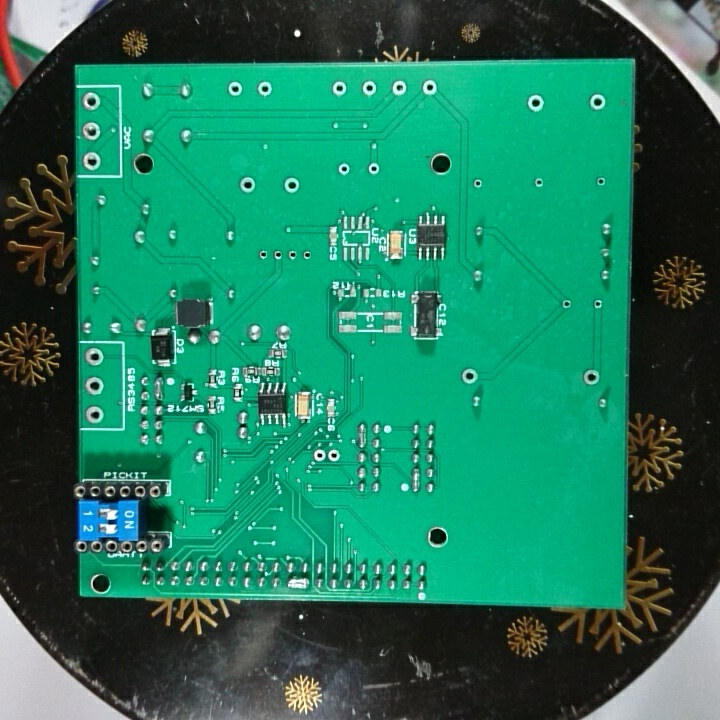F: (79, 118, 104, 144), (82, 346, 108, 369), (79, 90, 102, 115), (82, 403, 106, 426), (525, 92, 548, 115), (83, 376, 107, 398), (328, 78, 351, 100), (255, 78, 277, 101), (236, 175, 259, 197), (81, 149, 103, 172), (580, 366, 603, 387), (587, 92, 608, 114), (225, 79, 246, 100), (359, 78, 379, 100), (281, 175, 303, 195), (459, 366, 479, 387), (420, 78, 439, 98), (390, 78, 408, 99), (335, 160, 354, 178), (365, 160, 382, 178), (325, 447, 342, 465), (311, 446, 326, 466), (299, 246, 315, 264), (532, 175, 547, 192), (594, 175, 610, 190), (255, 247, 270, 263), (559, 297, 574, 312), (271, 248, 285, 264), (591, 298, 606, 312), (471, 177, 485, 192), (285, 248, 299, 263)
P: (284, 576, 311, 593), (151, 373, 166, 403), (409, 465, 422, 495), (356, 421, 369, 450)
